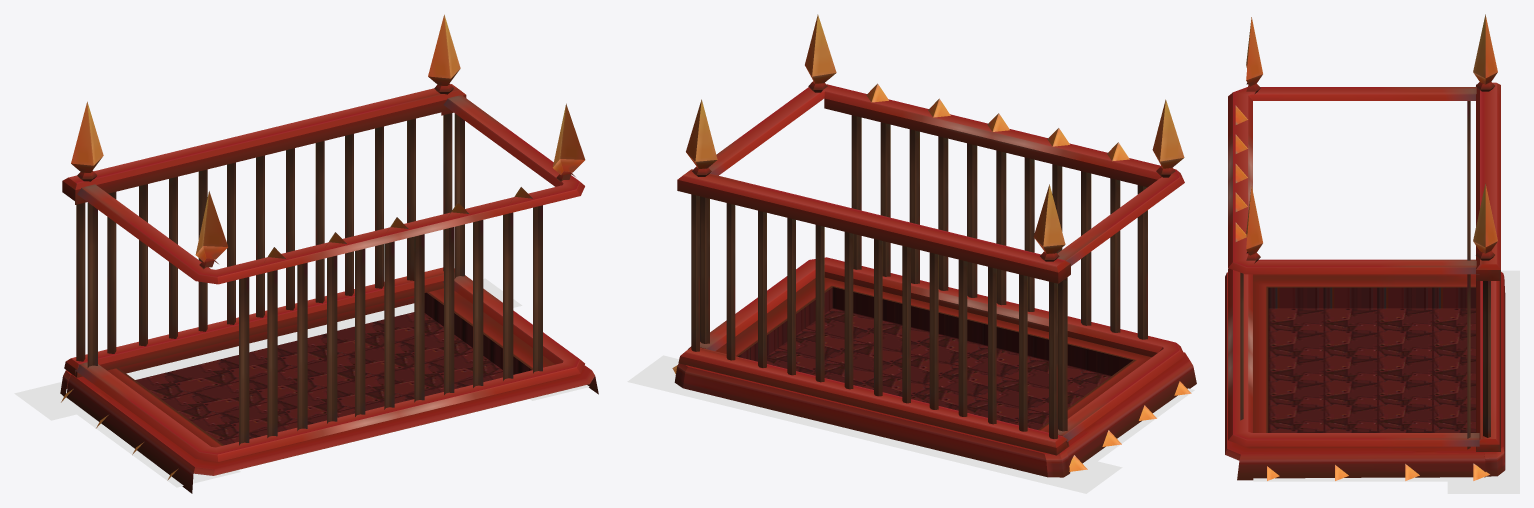
The model's file is [gimmick]cage.fbx.
3 renders of one model, left to right at view 1: azimuth 30°, elevation 25°; view 2: azimuth 150°, elevation 25°; view 3: azimuth 270°, elevation 25°, orthographic. The views are drawn at different scales.
Visible parts, largest first — view 1: cage, cage_door, shadow1, shadow1 (2); view 2: cage, cage_door, shadow1, shadow1 (2); view 3: cage, cage_door, shadow1, shadow1 (1).
Boxes of the visible parts, <box> form: cage: <box>61,95,598,493</box>; cage_door: <box>60,14,466,396</box>; shadow1: <box>14,278,522,420</box>; shadow1 (2): <box>43,386,240,487</box>; cage: <box>672,14,1196,472</box>; cage_door: <box>674,99,1070,477</box>; shadow1: <box>627,355,1122,493</box>; shadow1 (2): <box>1003,388,1194,481</box>; cage: <box>1225,17,1489,480</box>; cage_door: <box>1473,14,1505,476</box>; shadow1: <box>1447,270,1519,493</box>; shadow1 (1): <box>1253,451,1511,481</box>.
Bounding box in the file's own units: 7.13 × 4.24 × 3.98.
2 materials, 2 textured.
